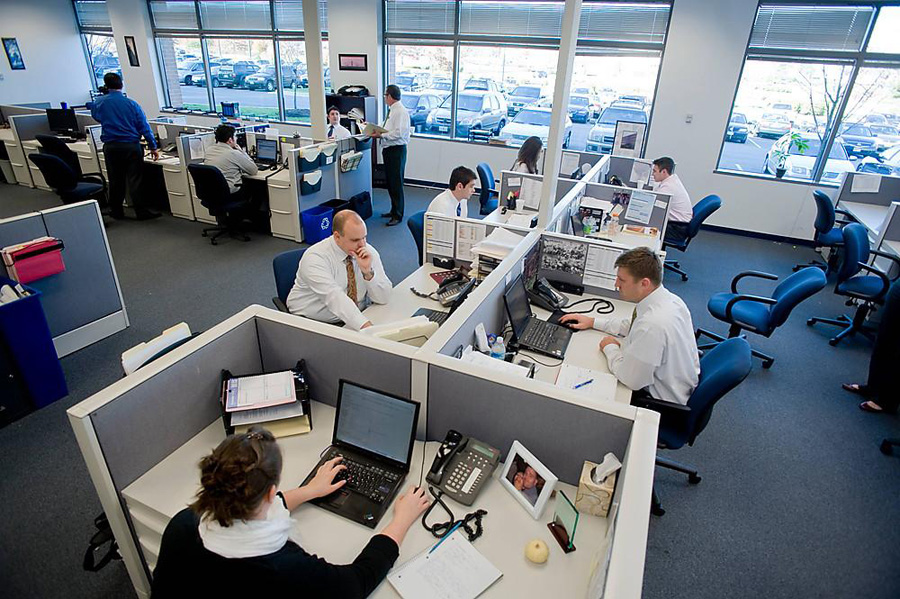person: (152, 426, 435, 599), (559, 246, 700, 407), (283, 209, 395, 331), (89, 71, 162, 224), (204, 124, 274, 234), (377, 84, 413, 228), (649, 157, 693, 244), (423, 166, 477, 229), (510, 136, 545, 186), (324, 104, 355, 144)
